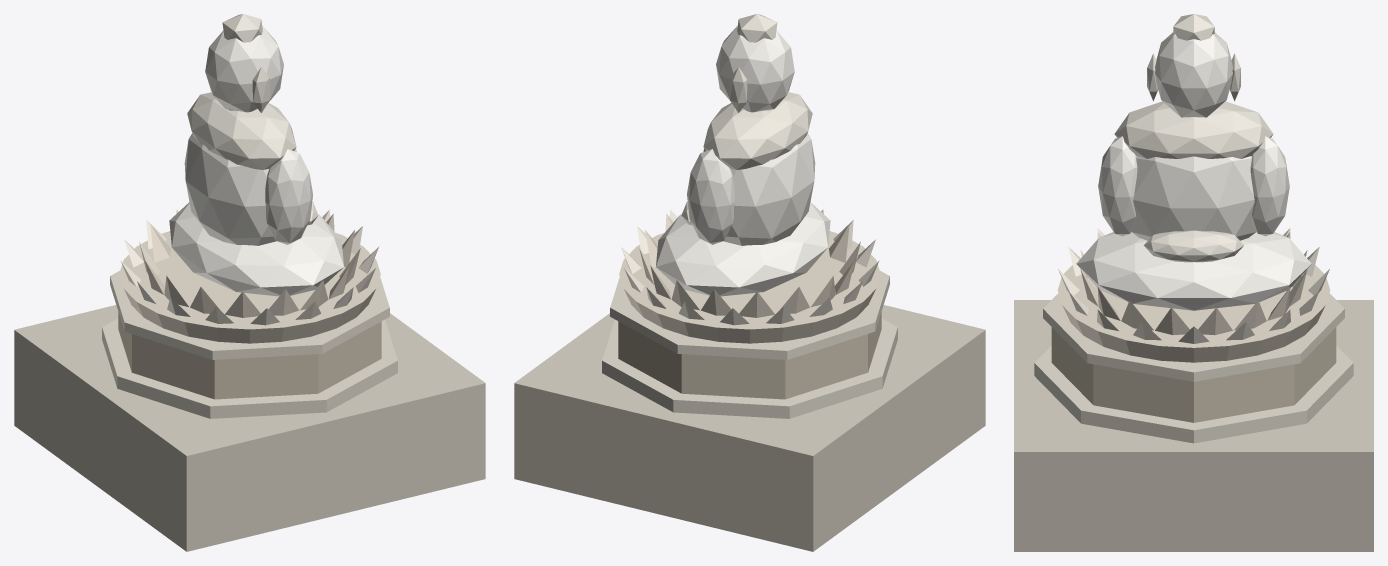
The model's file is buddha.glb.
3 renders of one model, left to right at view 1: azimuth 30°, elevation 25°; view 2: azimuth 150°, elevation 25°; view 3: azimuth 270°, elevation 25°, orthographic. The views are drawn at different scales.
Parts seen in each view (by area): view 1: buddha; view 2: buddha; view 3: buddha.
Boxes of the visible parts, bbox=[...] form: buddha: bbox=[14, 14, 485, 551]; buddha: bbox=[514, 14, 985, 551]; buddha: bbox=[1014, 14, 1373, 551].
Bounding box in the file's own units: 6.2 × 8.72 × 6.2.
